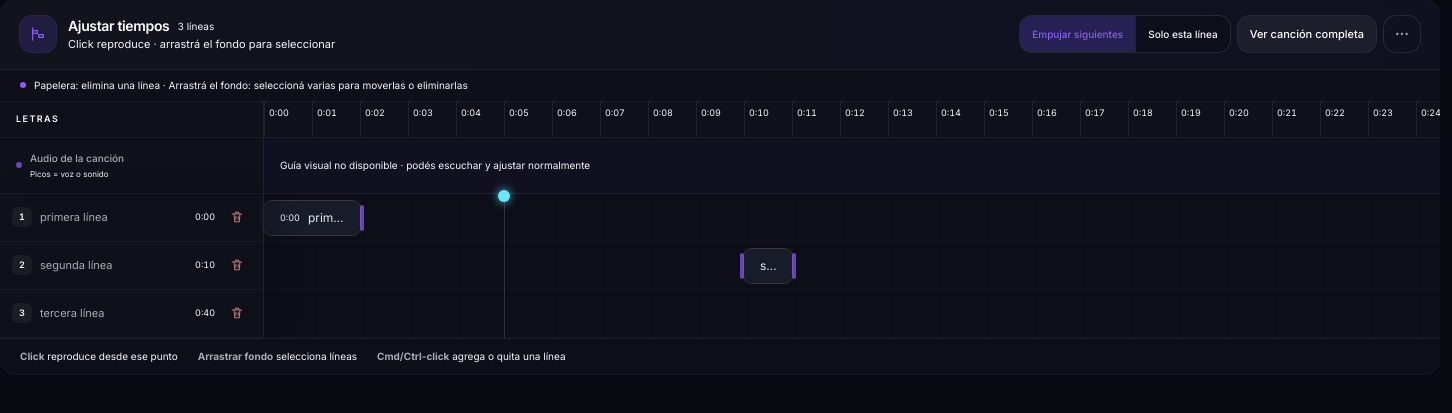
it: LyricsTimeline › selects a contiguous range with Shift-click
Press the mouse on the 1st element with test id "timeline-segment-body" at (312, 218), box [264,200,360,234]
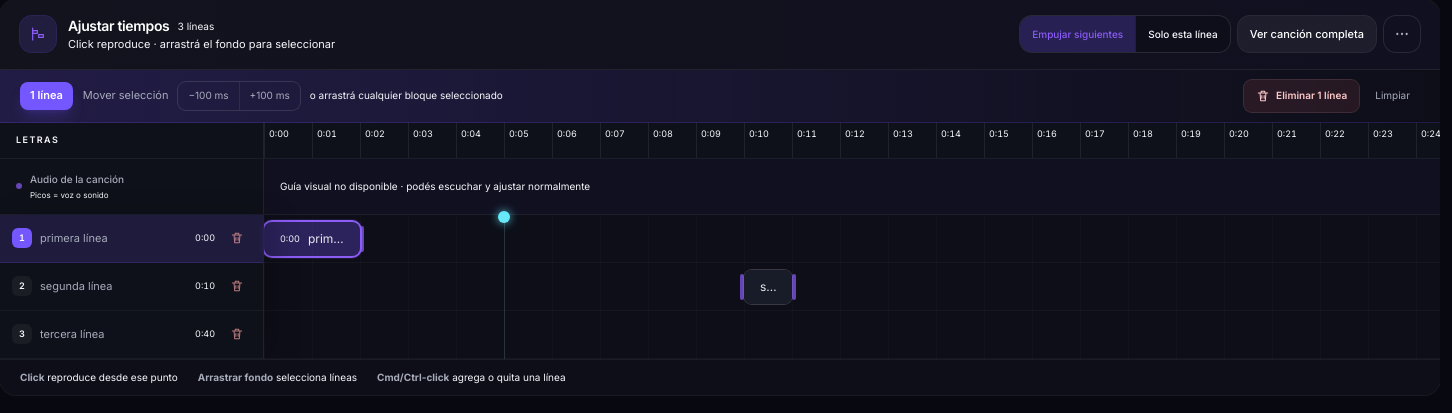
Press the mouse on the 2nd element with test id "timeline-segment-body" at (768, 286), box [744,270,792,304]
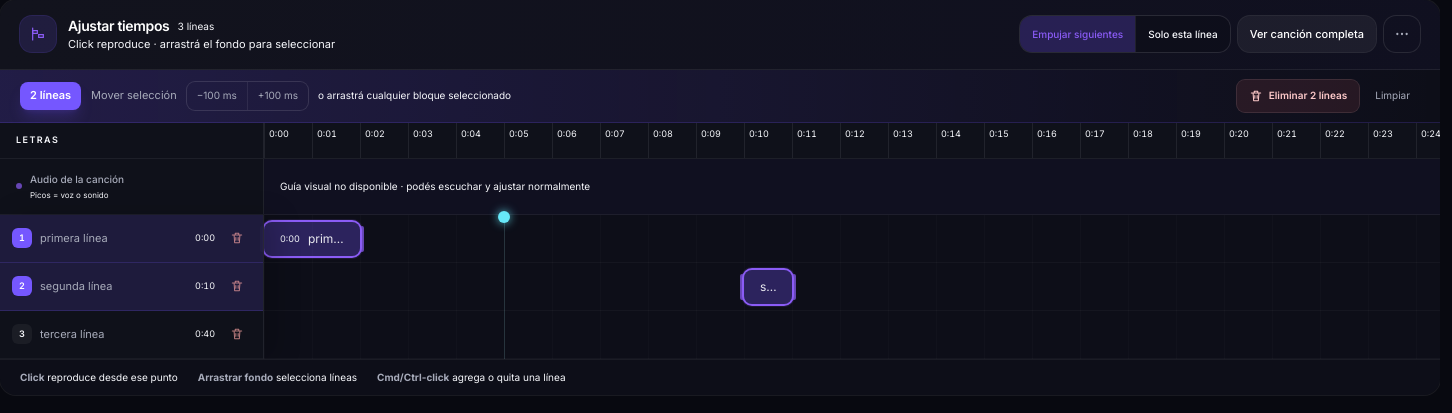
Expected: the text "2 líneas" is shown, [20,82,81,110]
